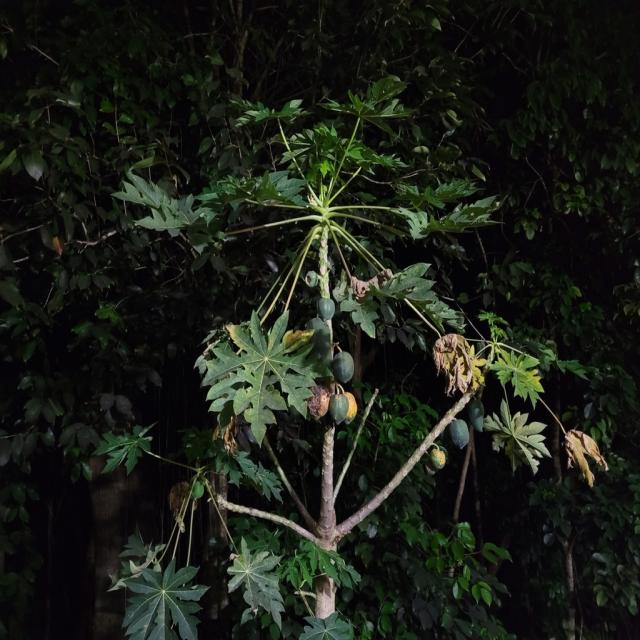Papaya-Tree: (182, 104, 466, 640)
